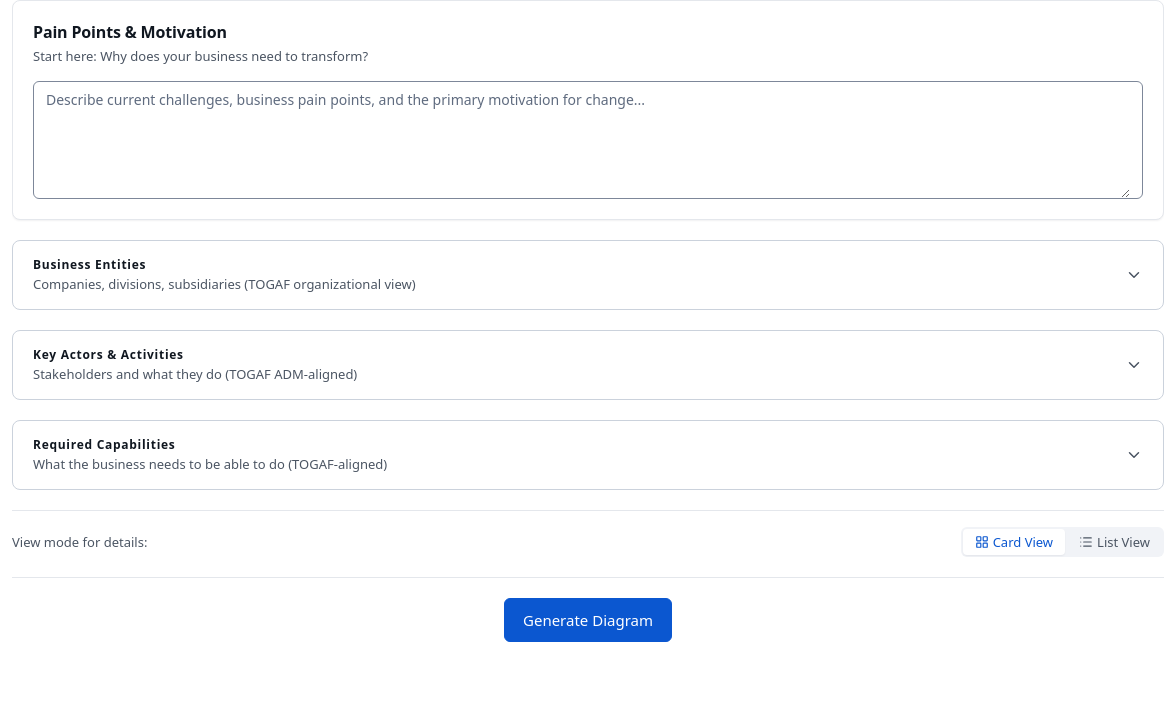
Test: ARIA Labels - Icon-Only Buttons › BusinessContextTab › has aria-label on entity list view remove button
Step 1. Click the radio button labelled "List View" → x=1115, y=542, box left=1067, top=529, right=1162, bottom=555
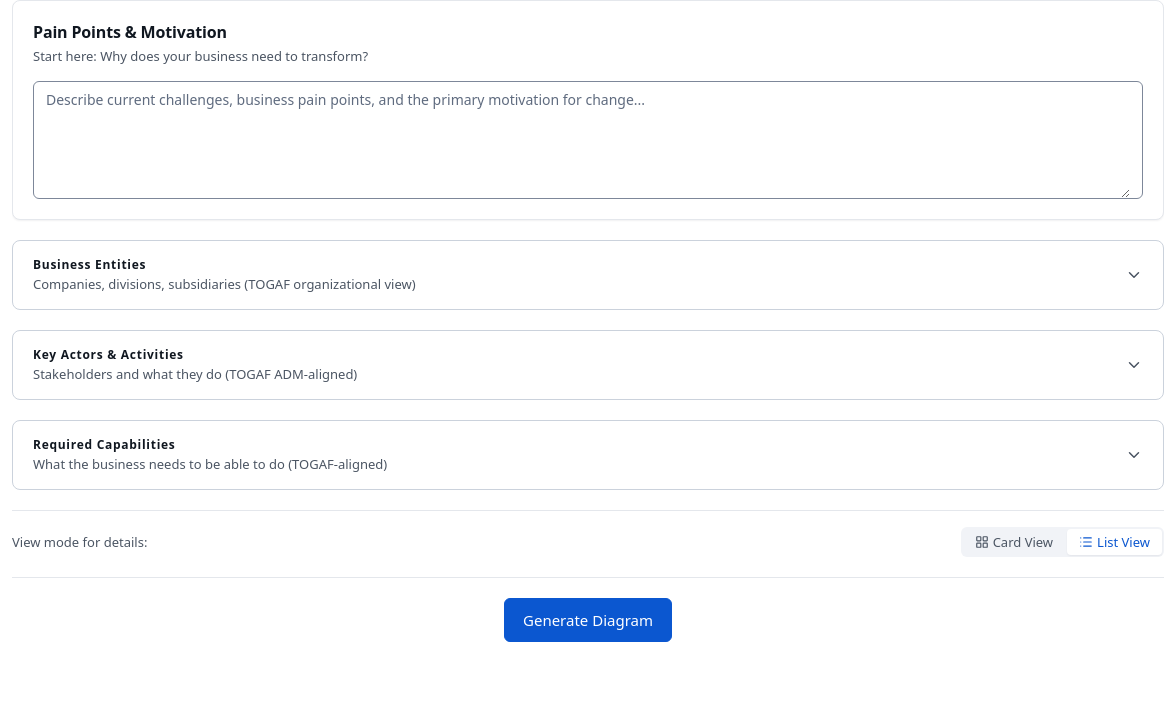
Step 2. Click the button "Business Entities" → x=90, y=264, box left=13, top=241, right=1163, bottom=309
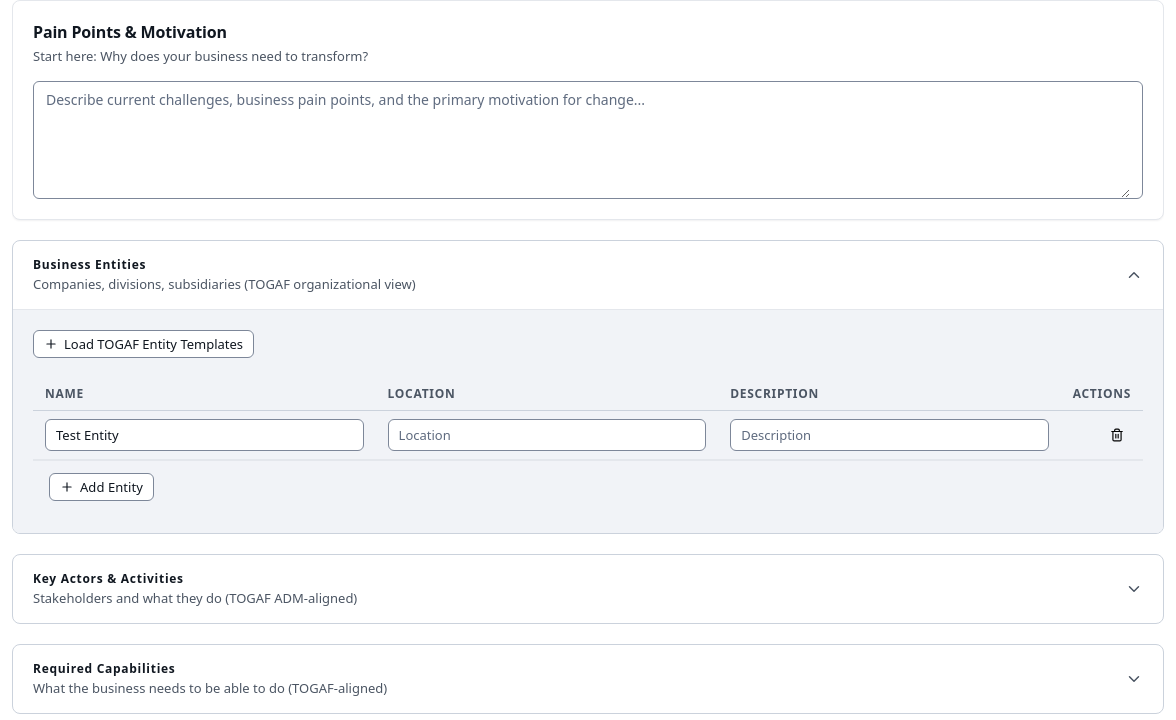
Check: the button named "remove entity" is shown, box left=1103, top=421, right=1131, bottom=449
